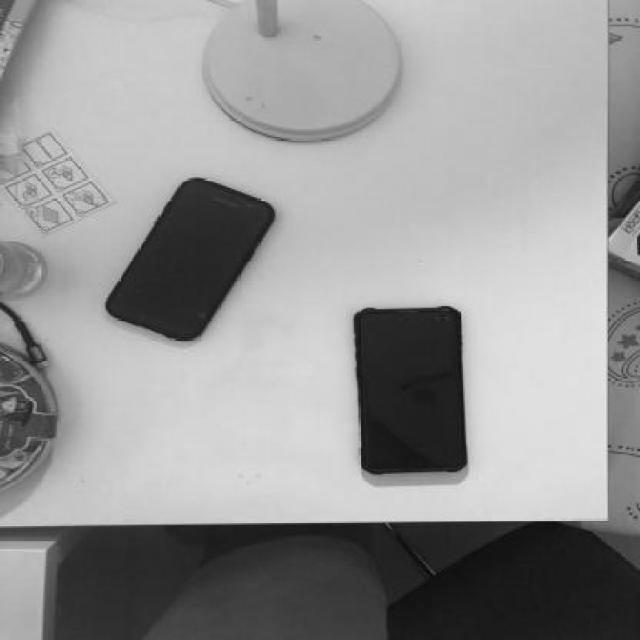fake: (104, 178, 274, 344), (350, 305, 470, 473)
